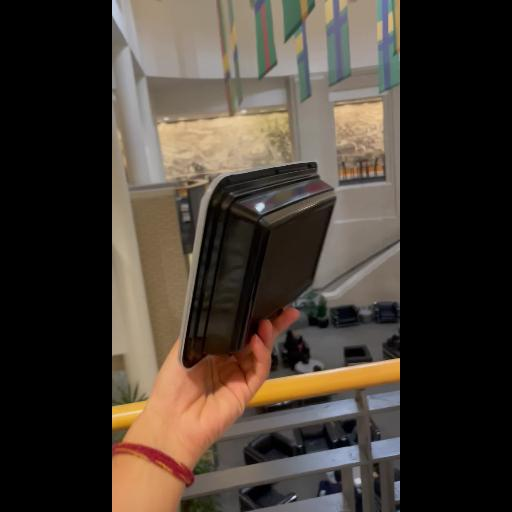rigid_plastic_container: (180, 165, 338, 369)
